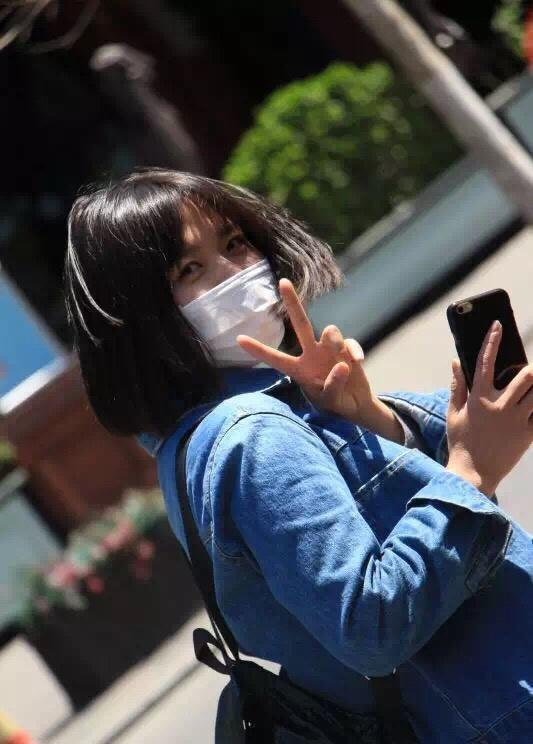WRONG: (158, 220, 300, 362)
